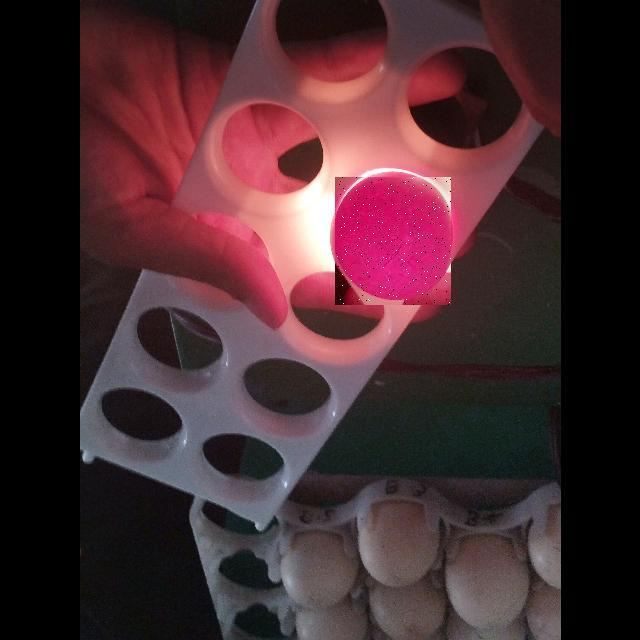Infertile: (335, 177, 451, 305)
